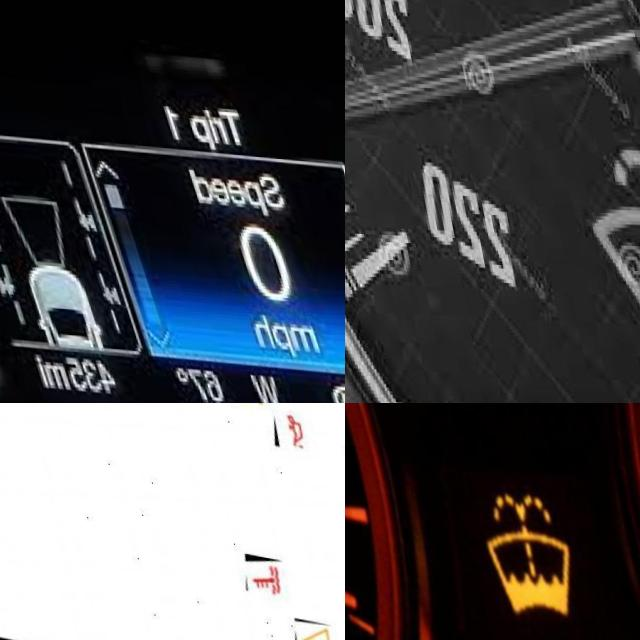Washer Fluid: (560, 141, 640, 378), (464, 491, 570, 614)
